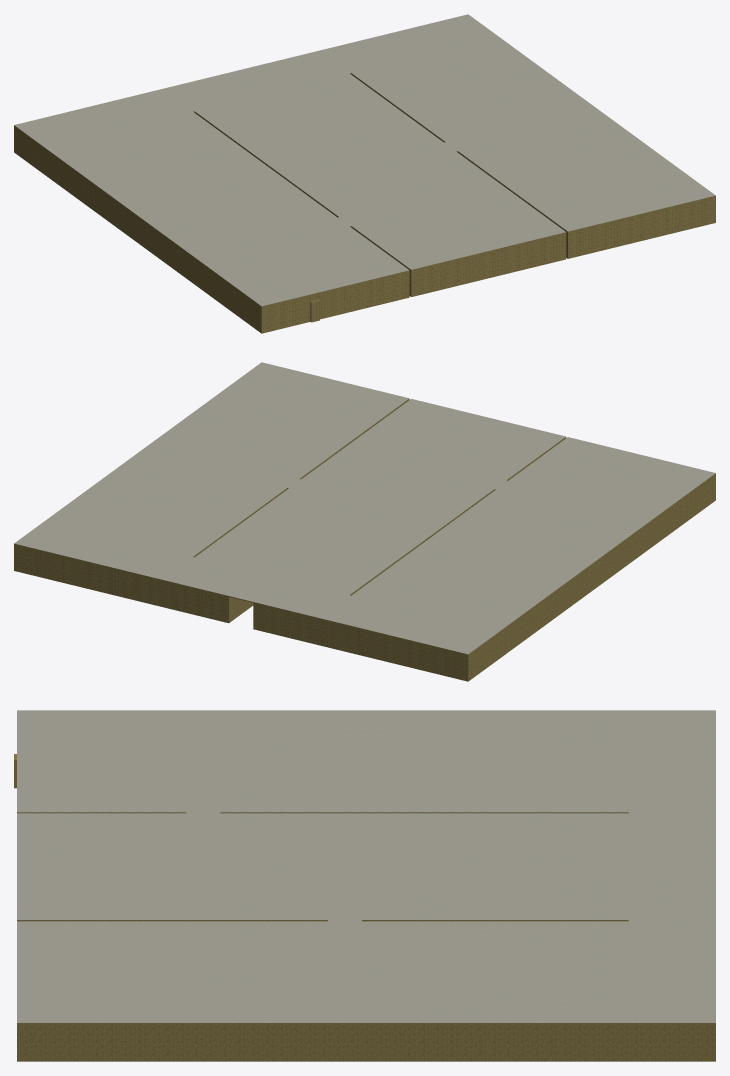
The model's file is gbi_L2_4.glb.
3 views of the same model, one above another, from view 1: azimuth 30°, elevation 25°; view 2: azimuth 150°, elevation 25°; view 3: azimuth 270°, elevation 25° (orthographic). The views are drawn at different scales.
Parts seen in each view (by area): view 1: M_D_ceil_L2, M_D_wall_L2; view 2: M_D_ceil_L2, M_D_wall_L2; view 3: M_D_ceil_L2, M_D_wall_L2.
Boxes of the visible parts, x1=… form: M_D_ceil_L2: x1=14, y1=14, x2=715, y2=306; M_D_wall_L2: x1=14, y1=73, x2=715, y2=333; M_D_ceil_L2: x1=14, y1=362, x2=715, y2=654; M_D_wall_L2: x1=14, y1=398, x2=715, y2=681; M_D_ceil_L2: x1=17, y1=710, x2=715, y2=1022; M_D_wall_L2: x1=14, y1=754, x2=715, y2=1061.
Bounding box in the file's own units: 52.2 × 3 × 49.5.
Materials: 15 (5 with a texture image).
